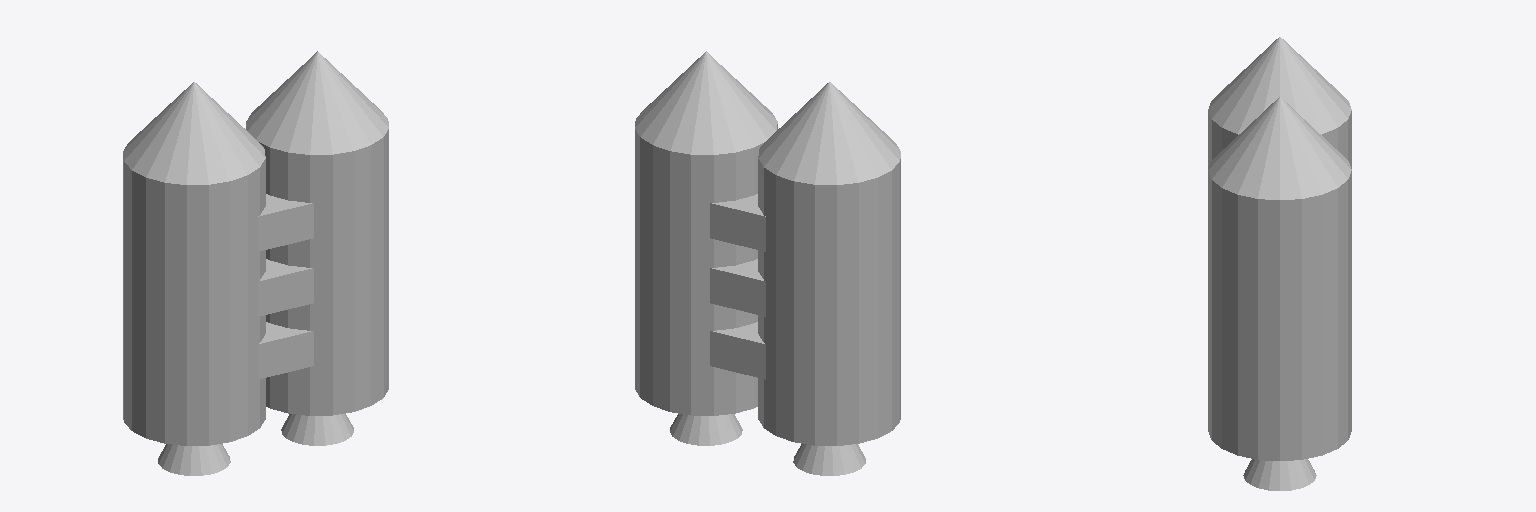
Rendered from jetpack.obj.
3 renders of one model, left to right at view 1: azimuth 30°, elevation 25°; view 2: azimuth 150°, elevation 25°; view 3: azimuth 270°, elevation 25°, orthographic.
Size of the model in its own units: 0.9954 by 1.45 by 0.5.